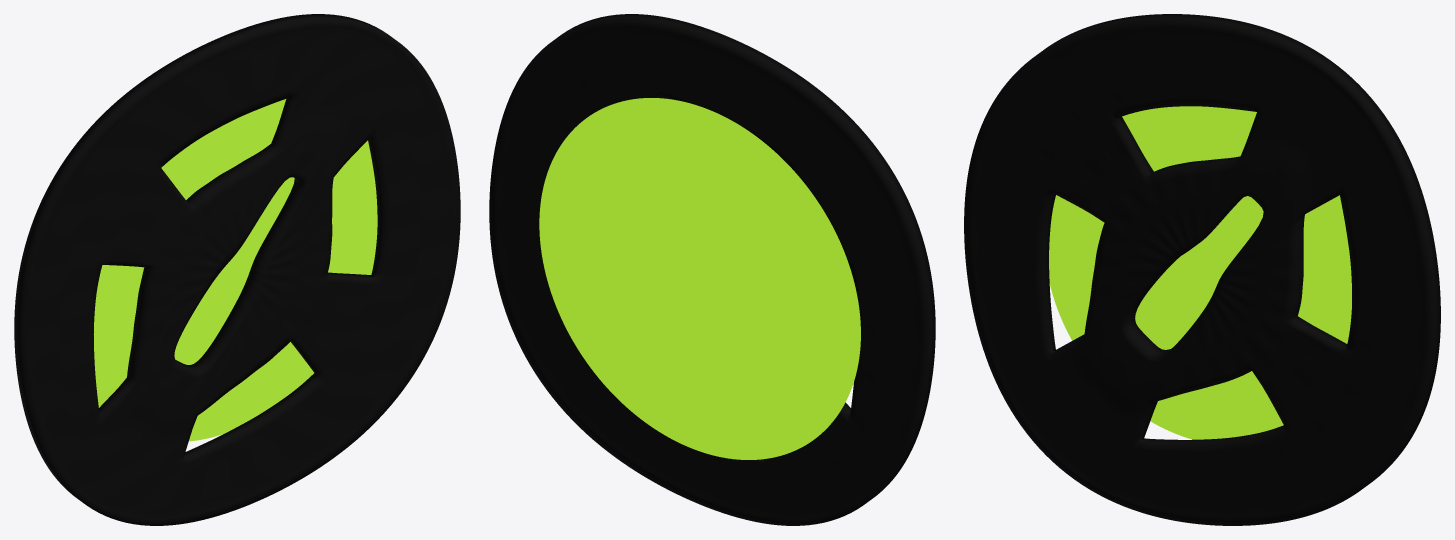
3 renders of one model, left to right at view 1: azimuth 30°, elevation 25°; view 2: azimuth 150°, elevation 25°; view 3: azimuth 330°, elevation 25°, orthographic. The views are drawn at different scales.
Parts seen in each view (by area): view 1: tsuba, hikari; view 2: hikari, tsuba; view 3: tsuba, hikari.
Boxes of the visible parts, x1,y1,x2,y2 form: tsuba: (14,14,460,525); hikari: (93,99,377,441); hikari: (539,98,860,459); tsuba: (489,14,935,525); tsuba: (964,14,1440,525); hikari: (1049,106,1351,439).
Size of the model in its own units: 1.75 by 1.81 by 0.1198.
